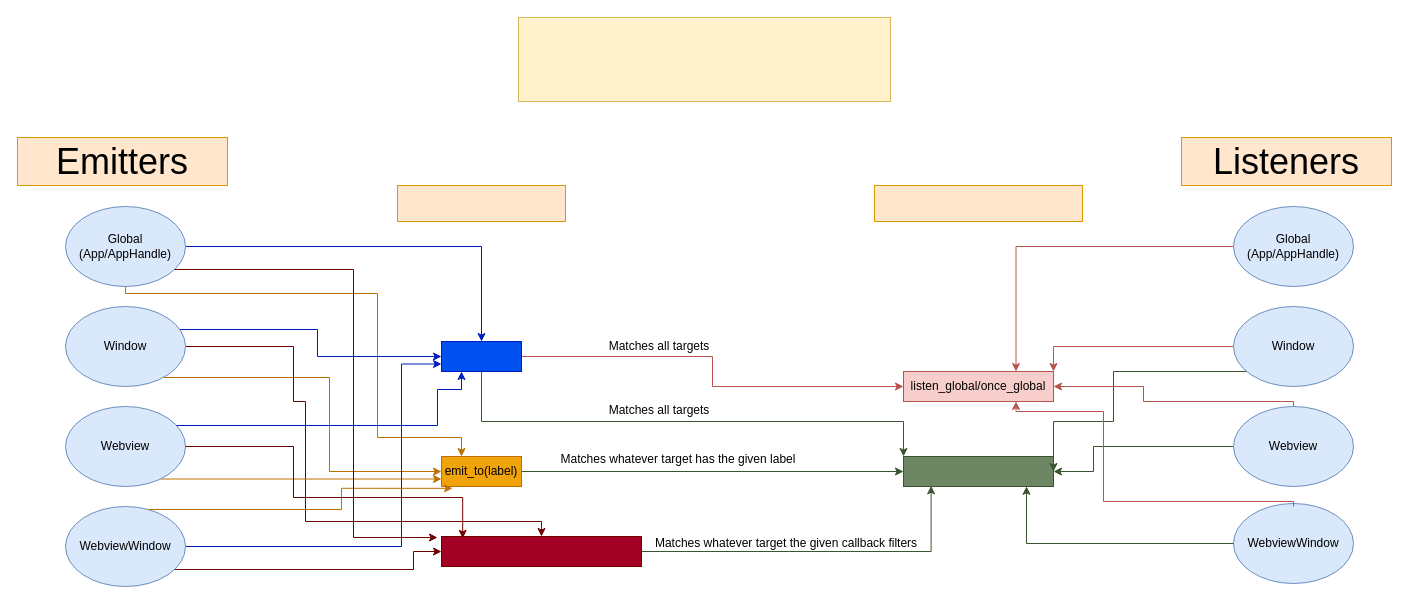
The diagram is 1409 pixels wide and 604 high, and some of its shapes have lost their labels. The shapes that lost their labels are listed below. From the top down, each one's box as (x1, y1, x2, y2) in pixels, then its label:
(518, 16, 890, 102): Tauri Event System
(396, 184, 566, 222): Emit functions
(874, 184, 1082, 222): Listen functions
(440, 340, 522, 372): emit
(902, 456, 1054, 486): listen/once
(440, 536, 642, 566): emit_filter(callback(target) -> bool)
